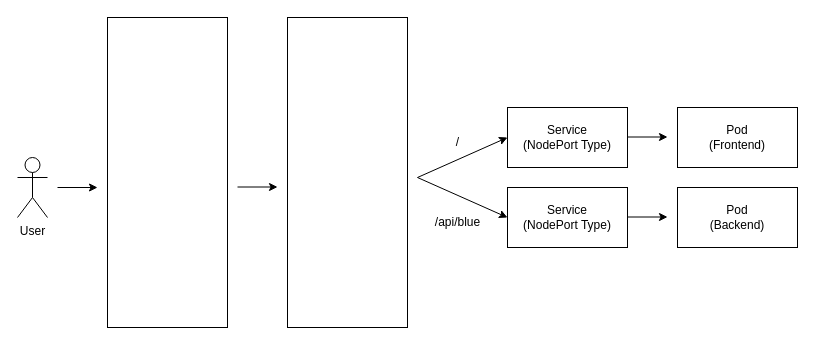
This 815x345 diagram has some shape labels left out. Each missing label, with the centre of its shape:
Ingerss Controller (External IP): the point at 167,172
Ingress Object (URL Based Route): the point at 347,172
